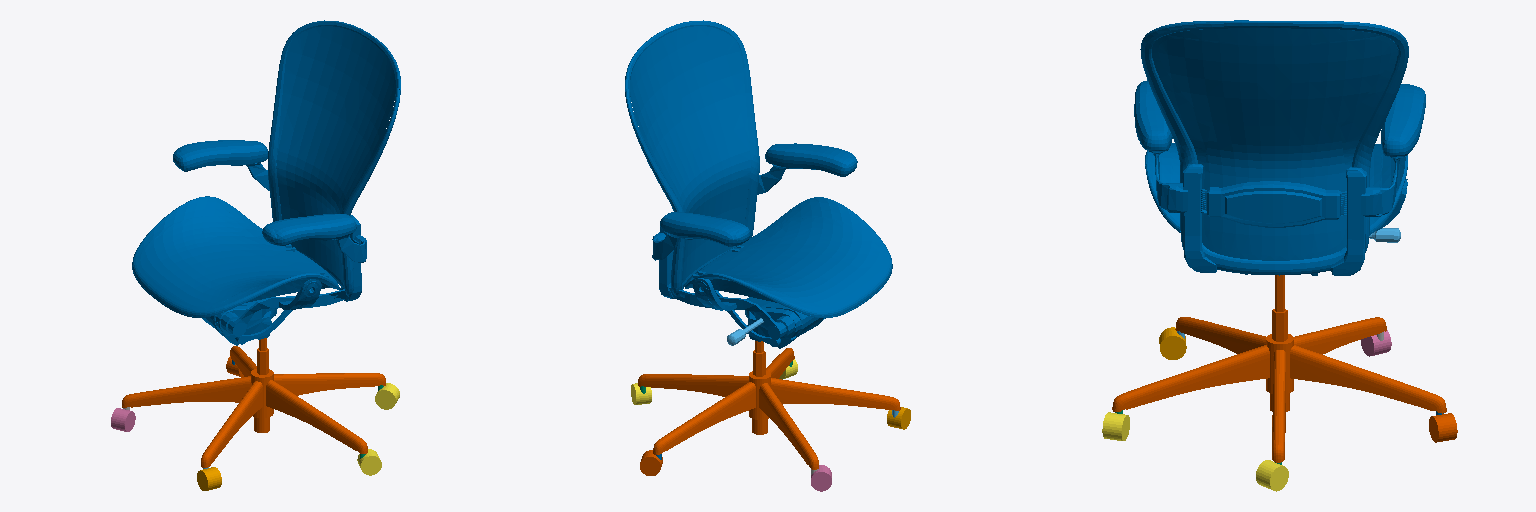
--- Render facts (derived) ---
3 views of the same robot in one strip: view 1: azimuth 30°, elevation 25°; view 2: azimuth 150°, elevation 25°; view 3: azimuth 270°, elevation 25° (orthographic).
Robot: partnet_2c4d7d33ecb486532569827d39fc0af3 — 15 links, 14 joints (1 revolute, 11 continuous, 1 prismatic, 1 fixed); root link base; default pose: all joints at 0.
Visible links, largest first — view 1: link_11, link_12; view 2: link_11, link_12; view 3: link_11, link_12, link_10, link_4, link_7, link_2.
Link boxes in pixels (x1=…): link_11: x1=132, y1=20, x2=400, y2=345; link_12: x1=122, y1=338, x2=385, y2=467; link_11: x1=625, y1=20, x2=892, y2=348; link_12: x1=638, y1=341, x2=900, y2=469; link_11: x1=1134, y1=20, x2=1425, y2=275; link_12: x1=1112, y1=275, x2=1446, y2=462; link_10: x1=1256, y1=460, x2=1288, y2=491; link_4: x1=1429, y1=413, x2=1457, y2=442; link_7: x1=1159, y1=327, x2=1186, y2=359; link_2: x1=1102, y1=412, x2=1129, y2=440.
Size in the robot's own frame: 1.16 by 1.17 by 1.67 metres.
62 mesh visuals loaded from 65 distinct referenced files (62 OBJ); not drawn: 3 (reference not matched to a file when rendering).

robot.urdf — partnet_2c4d7d33ecb486532569827d39fc0af3:
<?xml version="1.0" ?>
<robot name="partnet_2c4d7d33ecb486532569827d39fc0af3">
	<link name="base"/>
	<link name="link_0">
		<visual name="lever-43">
			<origin xyz="0.3140782300680875 0.18662272505102107 0"/>
			<geometry>
				<mesh filename="textured_objs/original-34.obj"/>
			</geometry>
		</visual>
		<collision>
			<origin xyz="0.3140782300680875 0.18662272505102107 0"/>
			<geometry>
				<mesh filename="textured_objs/original-34.obj"/>
			</geometry>
		</collision>
	</link>
	<joint name="joint_0" type="revolute">
		<origin xyz="-0.14912655271735248 -0.18662272505102107 0.36850095629040097"/>
		<axis xyz="0 0 1"/>
		<child link="link_0"/>
		<parent link="link_11"/>
		<limit lower="0.0" upper="0.3490658503988659"/>
	</joint>
	<link name="link_1">
		<visual name="caster_stem-33">
			<origin xyz="-0.365504 0 0.536953"/>
			<geometry>
				<mesh filename="textured_objs/original-14.obj"/>
			</geometry>
		</visual>
		<collision>
			<origin xyz="-0.365504 0 0.536953"/>
			<geometry>
				<mesh filename="textured_objs/original-14.obj"/>
			</geometry>
		</collision>
	</link>
	<joint name="joint_1" type="continuous">
		<origin xyz="0.365504 0 -0.536953"/>
		<axis xyz="0 1 0"/>
		<child link="link_1"/>
		<parent link="link_12"/>
	</joint>
	<link name="link_2">
		<visual name="wheel-34">
			<origin xyz="-0.20725654859334983 0.7499585319998523 0.6193904987055084"/>
			<geometry>
				<mesh filename="textured_objs/original-10.obj"/>
			</geometry>
		</visual>
		<collision>
			<origin xyz="-0.20725654859334983 0.7499585319998523 0.6193904987055084"/>
			<geometry>
				<mesh filename="textured_objs/original-10.obj"/>
			</geometry>
		</collision>
	</link>
	<joint name="joint_2" type="continuous">
		<origin xyz="-0.15824745140665017 -0.7499585319998523 -0.08243749870550843"/>
		<axis xyz="0.9483158063406166 -7.1553535013091026e-06 0.3173281131468613"/>
		<child link="link_2"/>
		<parent link="link_1"/>
	</joint>
	<link name="link_3">
		<visual name="caster_stem-31">
			<origin xyz="0.6927045000000001 0 0.5456920000000001"/>
			<geometry>
				<mesh filename="textured_objs/original-20.obj"/>
			</geometry>
		</visual>
		<collision>
			<origin xyz="0.6927045000000001 0 0.5456920000000001"/>
			<geometry>
				<mesh filename="textured_objs/original-20.obj"/>
			</geometry>
		</collision>
	</link>
	<joint name="joint_3" type="continuous">
		<origin xyz="-0.6927045000000001 0 -0.5456920000000001"/>
		<axis xyz="0 1 0"/>
		<child link="link_3"/>
		<parent link="link_12"/>
	</joint>
	<link name="link_4">
		<visual name="wheel-32">
			<origin xyz="0.2972064199025512 0.7499693206803775 0.735626623848009"/>
			<geometry>
				<mesh filename="textured_objs/original-19.obj"/>
			</geometry>
		</visual>
		<collision>
			<origin xyz="0.2972064199025512 0.7499693206803775 0.735626623848009"/>
			<geometry>
				<mesh filename="textured_objs/original-19.obj"/>
			</geometry>
		</collision>
	</link>
	<joint name="joint_4" type="continuous">
		<origin xyz="0.39549808009744886 -0.7499693206803775 -0.18993462384800897"/>
		<axis xyz="-0.9271940860209408 2.1422705450563802e-05 0.37458126806990766"/>
		<child link="link_4"/>
		<parent link="link_3"/>
	</joint>
	<link name="link_5">
		<visual name="wheel-29">
			<origin xyz="0.07871273030690085 0.7499594917458202 0.133630923329821"/>
			<geometry>
				<mesh filename="textured_objs/original-18.obj"/>
			</geometry>
		</visual>
		<collision>
			<origin xyz="0.07871273030690085 0.7499594917458202 0.133630923329821"/>
			<geometry>
				<mesh filename="textured_objs/original-18.obj"/>
			</geometry>
		</collision>
	</link>
	<joint name="joint_5" type="continuous">
		<origin xyz="0.41690747248001536 -0.7499594917458202 -0.21312092672378097"/>
		<axis xyz="0.8616345156866897 0 -0.5075292714488139"/>
		<child link="link_5"/>
		<parent link="link_6"/>
	</joint>
	<link name="link_6">
		<visual name="caster_stem-30">
			<origin xyz="0.4956202027869162 0 -0.07949000339395997"/>
			<geometry>
				<mesh filename="textured_objs/original-17.obj"/>
			</geometry>
		</visual>
		<collision>
			<origin xyz="0.4956202027869162 0 -0.07949000339395997"/>
			<geometry>
				<mesh filename="textured_objs/original-17.obj"/>
			</geometry>
		</collision>
	</link>
	<joint name="joint_6" type="continuous">
		<origin xyz="-0.4956202027869162 0 0.07949000339395997"/>
		<axis xyz="0 1 0"/>
		<child link="link_6"/>
		<parent link="link_12"/>
	</joint>
	<link name="link_7">
		<visual name="wheel-25">
			<origin xyz="-0.1856318276740847 0.7499593489888511 0.004856343416946496"/>
			<geometry>
				<mesh filename="textured_objs/original-16.obj"/>
			</geometry>
		</visual>
		<collision>
			<origin xyz="-0.1856318276740847 0.7499593489888511 0.004856343416946496"/>
			<geometry>
				<mesh filename="textured_objs/original-16.obj"/>
			</geometry>
		</collision>
	</link>
	<joint name="joint_7" type="continuous">
		<origin xyz="0.02563284616223563 -0.7499593489888511 -0.08937507856914126"/>
		<axis xyz="-0.026140741048911252 2.840913858024953e-06 -0.9996582724358074"/>
		<child link="link_7"/>
		<parent link="link_8"/>
	</joint>
	<link name="link_8">
		<visual name="caster_stem-26">
			<origin xyz="-0.15999898151184908 0 -0.08451873515219477"/>
			<geometry>
				<mesh filename="textured_objs/original-15.obj"/>
			</geometry>
		</visual>
		<collision>
			<origin xyz="-0.15999898151184908 0 -0.08451873515219477"/>
			<geometry>
				<mesh filename="textured_objs/original-15.obj"/>
			</geometry>
		</collision>
	</link>
	<joint name="joint_8" type="continuous">
		<origin xyz="0.15999898151184908 0 0.08451873515219477"/>
		<axis xyz="0 1 0"/>
		<child link="link_8"/>
		<parent link="link_12"/>
	</joint>
	<link name="link_9">
		<visual name="caster_stem-22">
			<origin xyz="0.15950045886762124 0 0.9248382247084418"/>
			<geometry>
				<mesh filename="textured_objs/original-12.obj"/>
			</geometry>
		</visual>
		<collision>
			<origin xyz="0.15950045886762124 0 0.9248382247084418"/>
			<geometry>
				<mesh filename="textured_objs/original-12.obj"/>
			</geometry>
		</collision>
	</link>
	<joint name="joint_9" type="continuous">
		<origin xyz="-0.15950045886762124 0 -0.9248382247084418"/>
		<axis xyz="0 1 0"/>
		<child link="link_9"/>
		<parent link="link_12"/>
	</joint>
	<link name="link_10">
		<visual name="wheel-23">
			<origin xyz="-0.40242140267258236 0.7499781818801282 0.40241340246437607"/>
			<geometry>
				<mesh filename="textured_objs/original-13.obj"/>
			</geometry>
		</visual>
		<collision>
			<origin xyz="-0.40242140267258236 0.7499781818801282 0.40241340246437607"/>
			<geometry>
				<mesh filename="textured_objs/original-13.obj"/>
			</geometry>
		</collision>
	</link>
	<joint name="joint_10" type="continuous">
		<origin xyz="0.5619218615402036 -0.7499781818801282 0.5224248222440657"/>
		<axis xyz="-0.7070773184146075 2.4055518091658736e-05 -0.7071362423217606"/>
		<child link="link_10"/>
		<parent link="link_9"/>
	</joint>
	<link name="link_11">
		<visual name="back_hard_surface-69">
			<origin xyz="0.16495167735073502 0 0.36850095629040097"/>
			<geometry>
				<mesh filename="textured_objs/original-59.obj"/>
			</geometry>
		</visual>
		<visual name="back_hard_surface-69">
			<origin xyz="0.16495167735073502 0 0.36850095629040097"/>
			<geometry>
				<mesh filename="textured_objs/original-45.obj"/>
			</geometry>
		</visual>
		<visual name="back_support-65">
			<origin xyz="0.16495167735073502 0 0.36850095629040097"/>
			<geometry>
				<mesh filename="textured_objs/original-58.obj"/>
			</geometry>
		</visual>
		<visual name="back_support-65">
			<origin xyz="0.16495167735073502 0 0.36850095629040097"/>
			<geometry>
				<mesh filename="textured_objs/original-47.obj"/>
			</geometry>
		</visual>
		<visual name="back_support-65">
			<origin xyz="0.16495167735073502 0 0.36850095629040097"/>
			<geometry>
				<mesh filename="textured_objs/original-46.obj"/>
			</geometry>
		</visual>
		<visual name="back_support-65">
			<origin xyz="0.16495167735073502 0 0.36850095629040097"/>
			<geometry>
				<mesh filename="textured_objs/original-51.obj"/>
			</geometry>
		</visual>
		<visual name="back_support-65">
			<origin xyz="0.16495167735073502 0 0.36850095629040097"/>
			<geometry>
				<mesh filename="textured_objs/original-55.obj"/>
			</geometry>
		</visual>
		<visual name="back_support-65">
			<origin xyz="0.16495167735073502 0 0.36850095629040097"/>
			<geometry>
				<mesh filename="textured_objs/original-49.obj"/>
			</geometry>
		</visual>
		<visual name="back_support-65">
			<origin xyz="0.16495167735073502 0 0.36850095629040097"/>
			<geometry>
				<mesh filename="textured_objs/original-48.obj"/>
			</geometry>
		</visual>
		<visual name="back_support-65">
			<origin xyz="0.16495167735073502 0 0.36850095629040097"/>
			<geometry>
				<mesh filename="textured_objs/original-50.obj"/>
			</geometry>
		</visual>
		<visual name="back_support-65">
			<origin xyz="0.16495167735073502 0 0.36850095629040097"/>
			<geometry>
				<mesh filename="textured_objs/original-52.obj"/>
			</geometry>
		</visual>
		<visual name="back_support-65">
			<origin xyz="0.16495167735073502 0 0.36850095629040097"/>
			<geometry>
				<mesh filename="textured_objs/original-53.obj"/>
			</geometry>
		</visual>
		<visual name="back_support-65">
			<origin xyz="0.16495167735073502 0 0.36850095629040097"/>
			<geometry>
				<mesh filename="textured_objs/original-54.obj"/>
			</geometry>
		</visual>
		<visual name="back_support-65">
			<origin xyz="0.16495167735073502 0 0.36850095629040097"/>
			<geometry>
				<mesh filename="textured_objs/original-56.obj"/>
			</geometry>
		</visual>
		<visual name="back_support-65">
			<origin xyz="0.16495167735073502 0 0.36850095629040097"/>
			<geometry>
				<mesh filename="textured_objs/original-57.obj"/>
			</geometry>
		</visual>
		<visual name="back_support-70">
			<origin xyz="0.16495167735073502 0 0.36850095629040097"/>
			<geometry>
				<mesh filename="textured_objs/original-22.obj"/>
			</geometry>
		</visual>
		<visual name="back_support-71">
			<origin xyz="0.16495167735073502 0 0.36850095629040097"/>
			<geometry>
				<mesh filename="textured_objs/original-21.obj"/>
			</geometry>
		</visual>
		<visual name="armrest_hard_surface-58">
			<origin xyz="0.16495167735073502 0 0.36850095629040097"/>
			<geometry>
				<mesh filename="textured_objs/original-1.obj"/>
			</geometry>
		</visual>
		<visual name="arm_horizontal_bar-59">
			<origin xyz="0.16495167735073502 0 0.36850095629040097"/>
			<geometry>
				<mesh filename="textured_objs/new-4.obj"/>
			</geometry>
		</visual>
		<visual name="arm_slant_bar-60">
			<origin xyz="0.16495167735073502 0 0.36850095629040097"/>
			<geometry>
				<mesh filename="textured_objs/new-5.obj"/>
			</geometry>
		</visual>
		<visual name="arm_connector-61">
			<origin xyz="0.16495167735073502 0 0.36850095629040097"/>
			<geometry>
				<mesh filename="textured_objs/new-6.obj"/>
			</geometry>
		</visual>
		<visual name="armrest_hard_surface-54">
			<origin xyz="0.16495167735073502 0 0.36850095629040097"/>
			<geometry>
				<mesh filename="textured_objs/original-2.obj"/>
			</geometry>
		</visual>
		<visual name="arm_slant_bar-55">
			<origin xyz="0.16495167735073502 0 0.36850095629040097"/>
			<geometry>
				<mesh filename="textured_objs/new-0.obj"/>
			</geometry>
		</visual>
		<visual name="arm_connector-56">
			<origin xyz="0.16495167735073502 0 0.36850095629040097"/>
			<geometry>
				<mesh filename="textured_objs/new-2.obj"/>
			</geometry>
		</visual>
		<visual name="arm_horizontal_bar-57">
			<origin xyz="0.16495167735073502 0 0.36850095629040097"/>
			<geometry>
				<mesh filename="textured_objs/new-1.obj"/>
			</geometry>
		</visual>
		<visual name="seat_support-38">
			<origin xyz="0.16495167735073502 0 0.36850095629040097"/>
			<geometry>
				<mesh filename="textured_objs/original-28.obj"/>
			</geometry>
		</visual>
		<visual name="seat_support-49">
			<origin xyz="0.16495167735073502 0 0.36850095629040097"/>
			<geometry>
				<mesh filename="textured_objs/original-29.obj"/>
			</geometry>
		</visual>
		<visual name="seat_support-50">
			<origin xyz="0.16495167735073502 0 0.36850095629040097"/>
			<geometry>
				<mesh filename="textured_objs/original-33.obj"/>
			</geometry>
		</visual>
		<visual name="seat_hard_surface-53">
			<origin xyz="0.16495167735073502 0 0.36850095629040097"/>
			<geometry>
				<mesh filename="textured_objs/original-62.obj"/>
			</geometry>
		</visual>
		<visual name="seat_hard_surface-53">
			<origin xyz="0.16495167735073502 0 0.36850095629040097"/>
			<geometry>
				<mesh filename="textured_objs/original-60.obj"/>
			</geometry>
		</visual>
		<visual name="seat_hard_surface-53">
			<origin xyz="0.16495167735073502 0 0.36850095629040097"/>
			<geometry>
				<mesh filename="textured_objs/original-61.obj"/>
			</geometry>
		</visual>
		<visual name="seat_support-52">
			<origin xyz="0.16495167735073502 0 0.36850095629040097"/>
			<geometry>
				<mesh filename="textured_objs/original-25.obj"/>
			</geometry>
		</visual>
		<visual name="seat_support-62">
			<origin xyz="0.16495167735073502 0 0.36850095629040097"/>
			<geometry>
				<mesh filename="textured_objs/original-43.obj"/>
			</geometry>
		</visual>
		<visual name="seat_support-62">
			<origin xyz="0.16495167735073502 0 0.36850095629040097"/>
			<geometry>
				<mesh filename="textured_objs/original-42.obj"/>
			</geometry>
		</visual>
		<visual name="seat_support-63">
			<origin xyz="0.16495167735073502 0 0.36850095629040097"/>
			<geometry>
				<mesh filename="textured_objs/original-40.obj"/>
			</geometry>
		</visual>
		<visual name="seat_support-63">
			<origin xyz="0.16495167735073502 0 0.36850095629040097"/>
			<geometry>
				<mesh filename="textured_objs/original-26.obj"/>
			</geometry>
		</visual>
		<visual name="seat_support-63">
			<origin xyz="0.16495167735073502 0 0.36850095629040097"/>
			<geometry>
				<mesh filename="textured_objs/original-41.obj"/>
			</geometry>
		</visual>
		<visual name="seat_connector-35">
			<origin xyz="0.16495167735073502 0 0.36850095629040097"/>
			<geometry>
				<mesh filename="textured_objs/original-39.obj"/>
			</geometry>
		</visual>
		<visual name="seat_connector-35">
			<origin xyz="0.16495167735073502 0 0.36850095629040097"/>
			<geometry>
				<mesh filename="textured_objs/original-31.obj"/>
			</geometry>
		</visual>
		<visual name="seat_connector-35">
			<origin xyz="0.16495167735073502 0 0.36850095629040097"/>
			<geometry>
				<mesh filename="textured_objs/original-38.obj"/>
			</geometry>
		</visual>
		<visual name="seat_connector-35">
			<origin xyz="0.16495167735073502 0 0.36850095629040097"/>
			<geometry>
				<mesh filename="textured_objs/original-32.obj"/>
			</geometry>
		</visual>
		<visual name="seat_connector-36">
			<origin xyz="0.16495167735073502 0 0.36850095629040097"/>
			<geometry>
				<mesh filename="textured_objs/original-35.obj"/>
			</geometry>
		</visual>
		<visual name="seat_connector-36">
			<origin xyz="0.16495167735073502 0 0.36850095629040097"/>
			<geometry>
				<mesh filename="textured_objs/original-36.obj"/>
			</geometry>
		</visual>
		<visual name="seat_connector-36">
			<origin xyz="0.16495167735073502 0 0.36850095629040097"/>
			<geometry>
				<mesh filename="textured_objs/original-30.obj"/>
			</geometry>
		</visual>
		<visual name="mounting_plate-42">
			<origin xyz="0.16495167735073502 0 0.36850095629040097"/>
			<geometry>
				<mesh filename="textured_objs/original-23.obj"/>
			</geometry>
		</visual>
		<visual name="mounting_plate-42">
			<origin xyz="0.16495167735073502 0 0.36850095629040097"/>
			<geometry>
				<mesh filename="textured_objs/original-24.obj"/>
			</geometry>
		</visual>
		<collision>
			<origin xyz="0.16495167735073502 0 0.36850095629040097"/>
			<geometry>
				<mesh filename="textured_objs/original-59.obj"/>
			</geometry>
		</collision>
		<collision>
			<origin xyz="0.16495167735073502 0 0.36850095629040097"/>
			<geometry>
				<mesh filename="textured_objs/original-45.obj"/>
			</geometry>
		</collision>
		<collision>
			<origin xyz="0.16495167735073502 0 0.36850095629040097"/>
			<geometry>
				<mesh filename="textured_objs/original-58.obj"/>
			</geometry>
		</collision>
		<collision>
			<origin xyz="0.16495167735073502 0 0.36850095629040097"/>
			<geometry>
				<mesh filename="textured_objs/original-47.obj"/>
			</geometry>
		</collision>
		<collision>
			<origin xyz="0.16495167735073502 0 0.36850095629040097"/>
			<geometry>
				<mesh filename="textured_objs/original-46.obj"/>
			</geometry>
		</collision>
		<collision>
			<origin xyz="0.16495167735073502 0 0.36850095629040097"/>
			<geometry>
				<mesh filename="textured_objs/original-51.obj"/>
			</geometry>
		</collision>
		<collision>
			<origin xyz="0.16495167735073502 0 0.36850095629040097"/>
			<geometry>
				<mesh filename="textured_objs/original-55.obj"/>
			</geometry>
		</collision>
		<collision>
			<origin xyz="0.16495167735073502 0 0.36850095629040097"/>
			<geometry>
				<mesh filename="textured_objs/original-49.obj"/>
			</geometry>
		</collision>
		<collision>
			<origin xyz="0.16495167735073502 0 0.36850095629040097"/>
			<geometry>
				<mesh filename="textured_objs/original-48.obj"/>
			</geometry>
		</collision>
		<collision>
			<origin xyz="0.16495167735073502 0 0.36850095629040097"/>
			<geometry>
				<mesh filename="textured_objs/original-50.obj"/>
			</geometry>
		</collision>
		<collision>
			<origin xyz="0.16495167735073502 0 0.36850095629040097"/>
			<geometry>
				<mesh filename="textured_objs/original-52.obj"/>
			</geometry>
		</collision>
		<collision>
			<origin xyz="0.16495167735073502 0 0.36850095629040097"/>
			<geometry>
				<mesh filename="textured_objs/original-53.obj"/>
			</geometry>
		</collision>
		<collision>
			<origin xyz="0.16495167735073502 0 0.36850095629040097"/>
			<geometry>
				<mesh filename="textured_objs/original-54.obj"/>
			</geometry>
		</collision>
		<collision>
			<origin xyz="0.16495167735073502 0 0.36850095629040097"/>
			<geometry>
				<mesh filename="textured_objs/original-56.obj"/>
			</geometry>
		</collision>
		<collision>
			<origin xyz="0.16495167735073502 0 0.36850095629040097"/>
			<geometry>
				<mesh filename="textured_objs/original-57.obj"/>
			</geometry>
		</collision>
		<collision>
			<origin xyz="0.16495167735073502 0 0.36850095629040097"/>
			<geometry>
				<mesh filename="textured_objs/original-22.obj"/>
			</geometry>
		</collision>
		<collision>
			<origin xyz="0.16495167735073502 0 0.36850095629040097"/>
			<geometry>
				<mesh filename="textured_objs/original-21.obj"/>
			</geometry>
		</collision>
		<collision>
			<origin xyz="0.16495167735073502 0 0.36850095629040097"/>
			<geometry>
				<mesh filename="textured_objs/original-1.obj"/>
			</geometry>
		</collision>
		<collision>
			<origin xyz="0.16495167735073502 0 0.36850095629040097"/>
			<geometry>
				<mesh filename="textured_objs/new-4.obj"/>
			</geometry>
		</collision>
		<collision>
			<origin xyz="0.16495167735073502 0 0.36850095629040097"/>
			<geometry>
				<mesh filename="textured_objs/new-5.obj"/>
			</geometry>
		</collision>
		<collision>
			<origin xyz="0.16495167735073502 0 0.36850095629040097"/>
			<geometry>
				<mesh filename="textured_objs/new-6.obj"/>
			</geometry>
		</collision>
		<collision>
			<origin xyz="0.16495167735073502 0 0.36850095629040097"/>
			<geometry>
				<mesh filename="textured_objs/original-2.obj"/>
			</geometry>
		</collision>
		<collision>
			<origin xyz="0.16495167735073502 0 0.36850095629040097"/>
			<geometry>
				<mesh filename="textured_objs/new-0.obj"/>
			</geometry>
		</collision>
		<collision>
			<origin xyz="0.16495167735073502 0 0.36850095629040097"/>
			<geometry>
				<mesh filename="textured_objs/new-2.obj"/>
			</geometry>
		</collision>
		<collision>
			<origin xyz="0.16495167735073502 0 0.36850095629040097"/>
			<geometry>
				<mesh filename="textured_objs/new-1.obj"/>
			</geometry>
		</collision>
		<collision>
			<origin xyz="0.16495167735073502 0 0.36850095629040097"/>
			<geometry>
				<mesh filename="textured_objs/original-28.obj"/>
			</geometry>
		</collision>
		<collision>
			<origin xyz="0.16495167735073502 0 0.36850095629040097"/>
			<geometry>
				<mesh filename="textured_objs/original-29.obj"/>
			</geometry>
		</collision>
		<collision>
			<origin xyz="0.16495167735073502 0 0.36850095629040097"/>
			<geometry>
				<mesh filename="textured_objs/original-33.obj"/>
			</geometry>
		</collision>
		<collision>
			<origin xyz="0.16495167735073502 0 0.36850095629040097"/>
			<geometry>
				<mesh filename="textured_objs/original-62.obj"/>
			</geometry>
		</collision>
		<collision>
			<origin xyz="0.16495167735073502 0 0.36850095629040097"/>
			<geometry>
				<mesh filename="textured_objs/original-60.obj"/>
			</geometry>
		</collision>
		<collision>
			<origin xyz="0.16495167735073502 0 0.36850095629040097"/>
			<geometry>
				<mesh filename="textured_objs/original-61.obj"/>
			</geometry>
		</collision>
		<collision>
			<origin xyz="0.16495167735073502 0 0.36850095629040097"/>
			<geometry>
				<mesh filename="textured_objs/original-25.obj"/>
			</geometry>
		</collision>
		<collision>
			<origin xyz="0.16495167735073502 0 0.36850095629040097"/>
			<geometry>
				<mesh filename="textured_objs/original-43.obj"/>
			</geometry>
		</collision>
		<collision>
			<origin xyz="0.16495167735073502 0 0.36850095629040097"/>
			<geometry>
				<mesh filename="textured_objs/original-42.obj"/>
			</geometry>
		</collision>
		<collision>
			<origin xyz="0.16495167735073502 0 0.36850095629040097"/>
			<geometry>
				<mesh filename="textured_objs/original-40.obj"/>
			</geometry>
		</collision>
		<collision>
			<origin xyz="0.16495167735073502 0 0.36850095629040097"/>
			<geometry>
				<mesh filename="textured_objs/original-26.obj"/>
			</geometry>
		</collision>
		<collision>
			<origin xyz="0.16495167735073502 0 0.36850095629040097"/>
			<geometry>
				<mesh filename="textured_objs/original-41.obj"/>
			</geometry>
		</collision>
		<collision>
			<origin xyz="0.16495167735073502 0 0.36850095629040097"/>
			<geometry>
				<mesh filename="textured_objs/original-39.obj"/>
			</geometry>
		</collision>
		<collision>
			<origin xyz="0.16495167735073502 0 0.36850095629040097"/>
			<geometry>
				<mesh filename="textured_objs/original-31.obj"/>
			</geometry>
		</collision>
		<collision>
			<origin xyz="0.16495167735073502 0 0.36850095629040097"/>
			<geometry>
				<mesh filename="textured_objs/original-38.obj"/>
			</geometry>
		</collision>
		<collision>
			<origin xyz="0.16495167735073502 0 0.36850095629040097"/>
			<geometry>
				<mesh filename="textured_objs/original-32.obj"/>
			</geometry>
		</collision>
		<collision>
			<origin xyz="0.16495167735073502 0 0.36850095629040097"/>
			<geometry>
				<mesh filename="textured_objs/original-35.obj"/>
			</geometry>
		</collision>
		<collision>
			<origin xyz="0.16495167735073502 0 0.36850095629040097"/>
			<geometry>
				<mesh filename="textured_objs/original-36.obj"/>
			</geometry>
		</collision>
		<collision>
			<origin xyz="0.16495167735073502 0 0.36850095629040097"/>
			<geometry>
				<mesh filename="textured_objs/original-30.obj"/>
			</geometry>
		</collision>
		<collision>
			<origin xyz="0.16495167735073502 0 0.36850095629040097"/>
			<geometry>
				<mesh filename="textured_objs/original-23.obj"/>
			</geometry>
		</collision>
		<collision>
			<origin xyz="0.16495167735073502 0 0.36850095629040097"/>
			<geometry>
				<mesh filename="textured_objs/original-24.obj"/>
			</geometry>
		</collision>
	</link>
	<joint name="joint_11" type="continuous">
		<origin xyz="0.0 0 0.0"/>
		<axis xyz="0 1 0"/>
		<child link="link_11"/>
		<parent link="link_11_helper"/>
	</joint>
	<link name="link_12">
		<visual name="central_support-7">
			<origin xyz="0 0 0"/>
			<geometry>
				<mesh filename="textured_objs/original-9.obj"/>
			</geometry>
		</visual>
		<visual name="central_support-7">
			<origin xyz="0 0 0"/>
			<geometry>
				<mesh filename="textured_objs/original-11.obj"/>
			</geometry>
		</visual>
		<visual name="central_support-7">
			<origin xyz="0 0 0"/>
			<geometry>
				<mesh filename="textured_objs/original-3.obj"/>
			</geometry>
		</visual>
		<visual name="leg-9">
			<origin xyz="0 0 0"/>
			<geometry>
				<mesh filename="textured_objs/original-6.obj"/>
			</geometry>
		</visual>
		<visual name="leg-10">
			<origin xyz="0 0 0"/>
			<geometry>
				<mesh filename="textured_objs/original-8.obj"/>
			</geometry>
		</visual>
		<visual name="leg-11">
			<origin xyz="0 0 0"/>
			<geometry>
				<mesh filename="textured_objs/original-4.obj"/>
			</geometry>
		</visual>
		<visual name="leg-12">
			<origin xyz="0 0 0"/>
			<geometry>
				<mesh filename="textured_objs/original-7.obj"/>
			</geometry>
		</visual>
		<visual name="leg-13">
			<origin xyz="0 0 0"/>
			<geometry>
				<mesh filename="textured_objs/original-5.obj"/>
			</geometry>
		</visual>
		<collision>
			<origin xyz="0 0 0"/>
			<geometry>
				<mesh filename="textured_objs/original-9.obj"/>
			</geometry>
		</collision>
		<collision>
			<origin xyz="0 0 0"/>
			<geometry>
				<mesh filename="textured_objs/original-11.obj"/>
			</geometry>
		</collision>
		<collision>
			<origin xyz="0 0 0"/>
			<geometry>
				<mesh filename="textured_objs/original-3.obj"/>
			</geometry>
		</collision>
		<collision>
			<origin xyz="0 0 0"/>
			<geometry>
				<mesh filename="textured_objs/original-6.obj"/>
			</geometry>
		</collision>
		<collision>
			<origin xyz="0 0 0"/>
			<geometry>
				<mesh filename="textured_objs/original-8.obj"/>
			</geometry>
		</collision>
		<collision>
			<origin xyz="0 0 0"/>
			<geometry>
				<mesh filename="textured_objs/original-4.obj"/>
			</geometry>
		</collision>
		<collision>
			<origin xyz="0 0 0"/>
			<geometry>
				<mesh filename="textured_objs/original-7.obj"/>
			</geometry>
		</collision>
		<collision>
			<origin xyz="0 0 0"/>
			<geometry>
				<mesh filename="textured_objs/original-5.obj"/>
			</geometry>
		</collision>
	</link>
	<joint name="joint_12" type="fixed">
		<origin rpy="1.570796326794897 0 -1.570796326794897" xyz="0 0 0"/>
		<child link="link_12"/>
		<parent link="base"/>
	</joint>
	<link name="link_11_helper"/>
	<joint name="joint_13" type="prismatic">
		<origin xyz="-0.16495167735073502 0 -0.36850095629040097"/>
		<axis xyz="0 -1 0"/>
		<child link="link_11_helper"/>
		<parent link="link_12"/>
		<limit lower="0" upper="0.1"/>
	</joint>
</robot>
